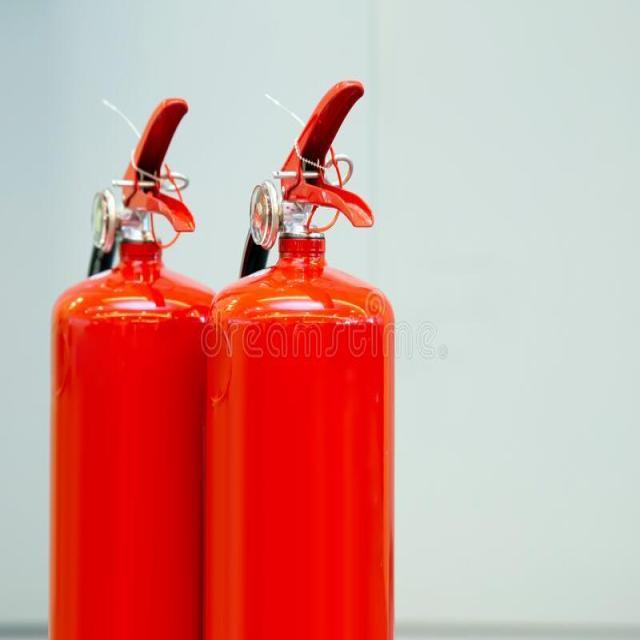fire_extinguisher: (198, 74, 398, 639), (44, 90, 235, 639)
